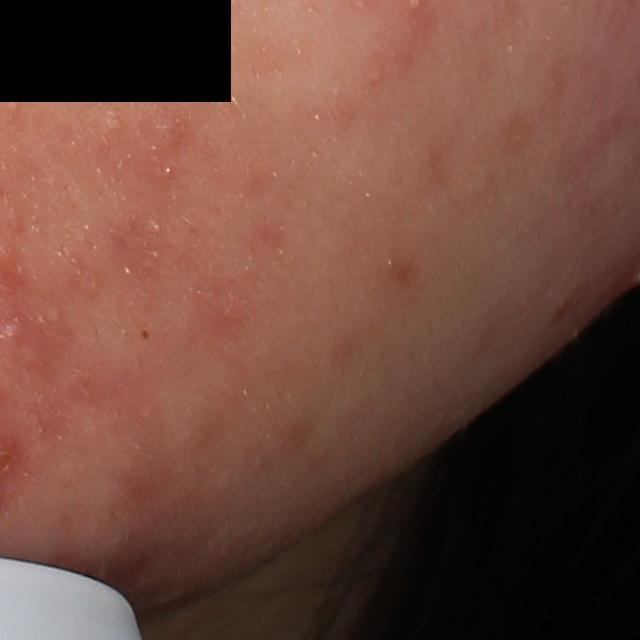comedo: (0, 317, 25, 343), (137, 325, 156, 343)
